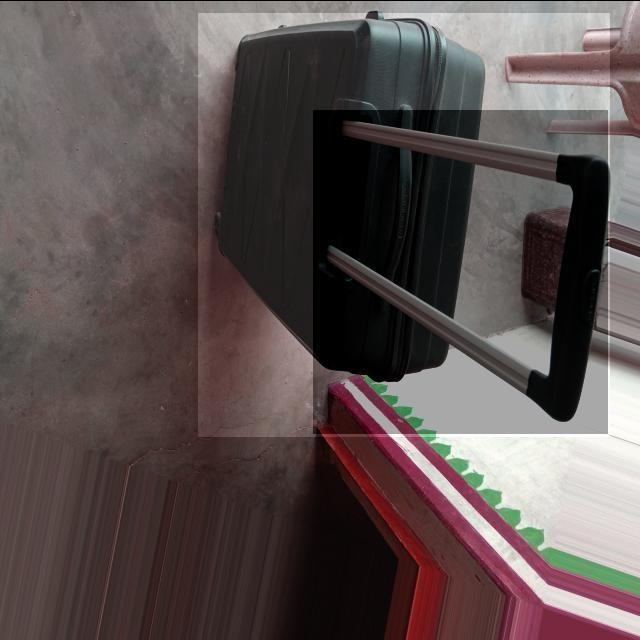Suitcase: (200, 13, 626, 451)
